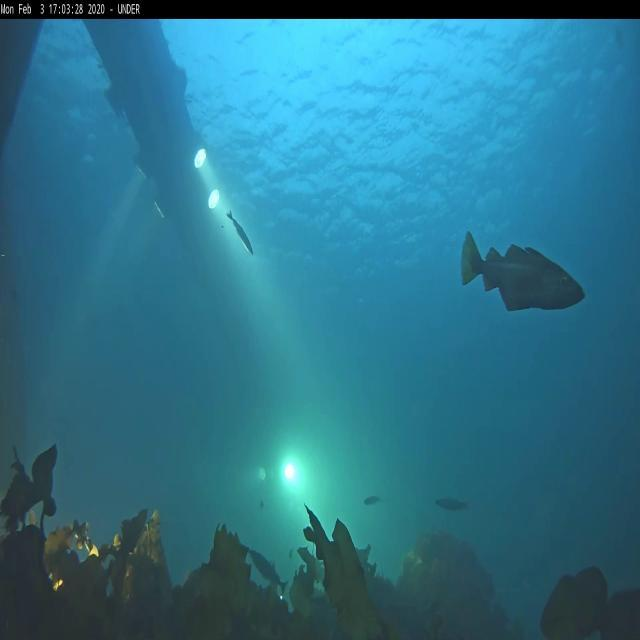fish: (460, 230, 586, 314), (250, 552, 289, 596), (224, 210, 254, 256), (436, 496, 468, 514), (364, 492, 382, 508), (288, 547, 296, 560), (258, 501, 266, 508)
